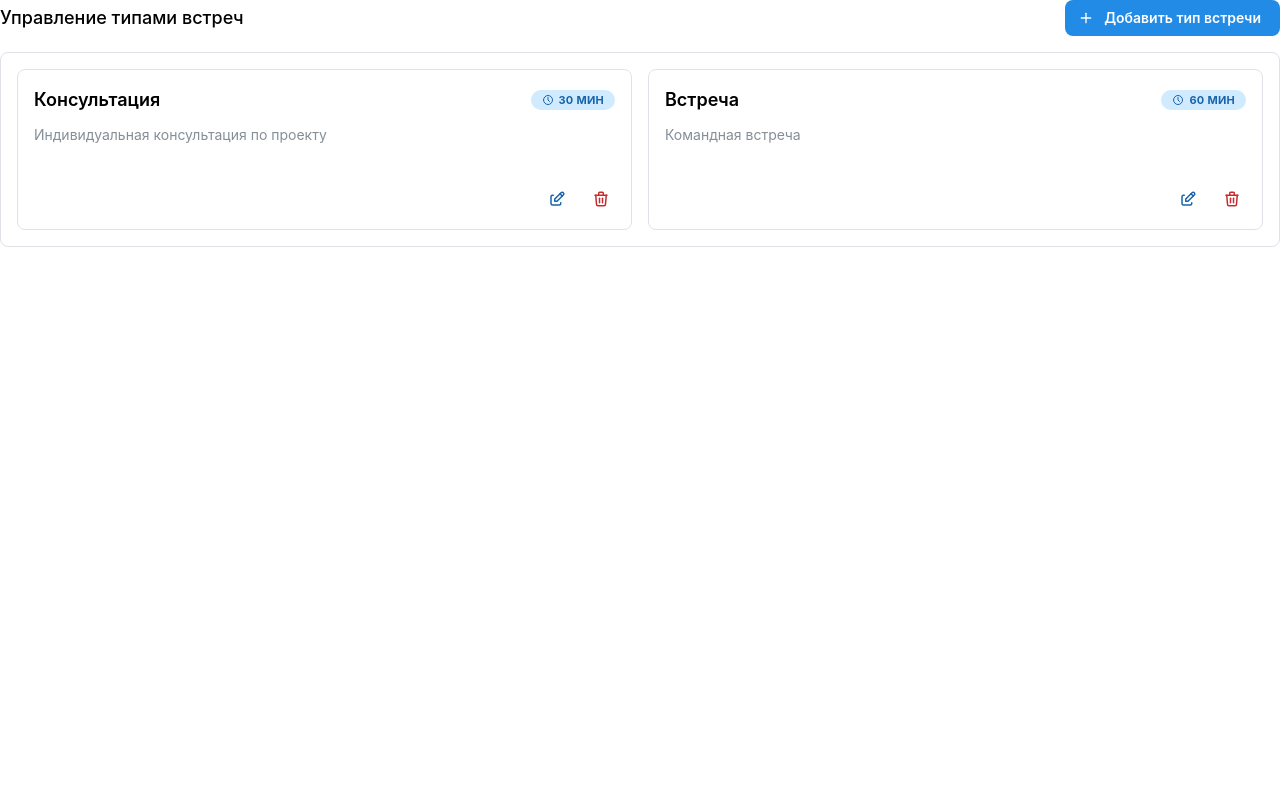
Test: EventTypeManagement › creates a new event type successfully
This screenshot has width=1280, height=800.
Check: the text "Консультация" is shown, box [34,86,160,115]
Click the button "Добавить тип встречи" at (1173, 18), box [1065,0,1279,36]
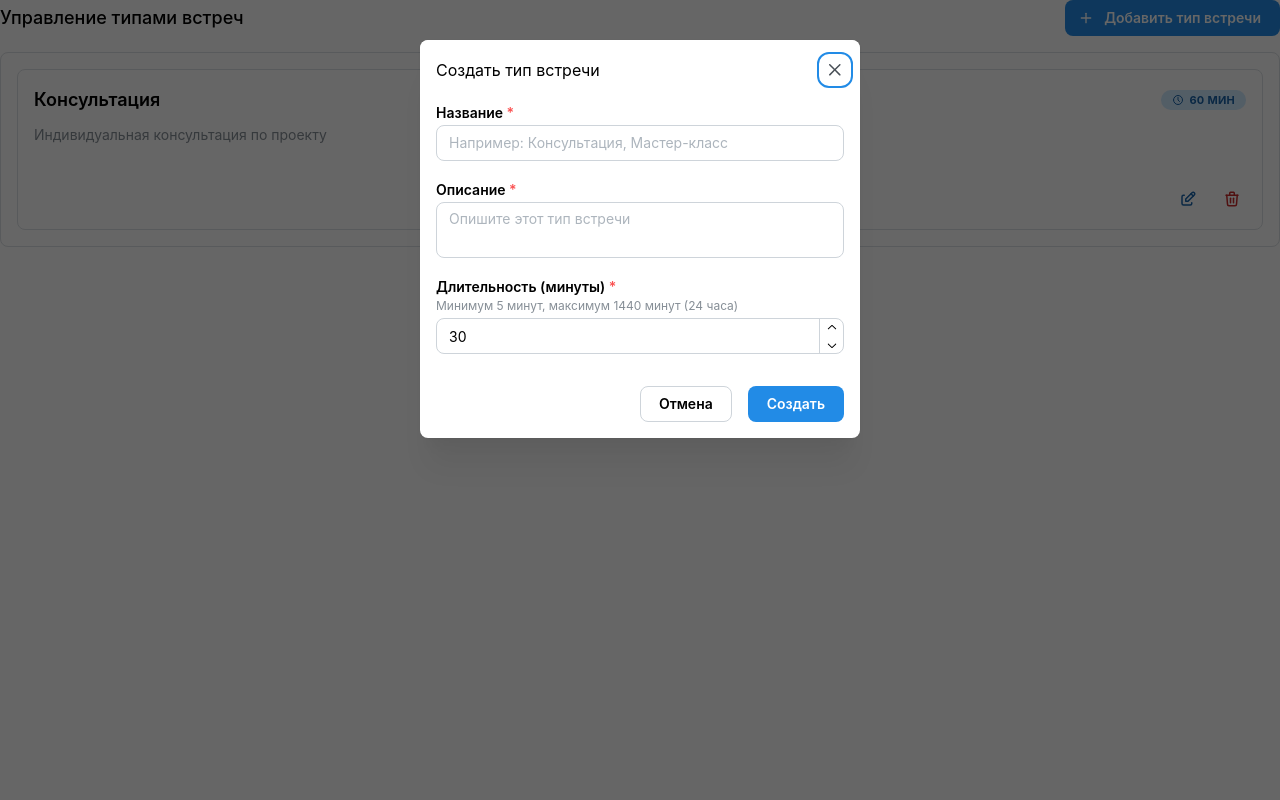
Type "Стратегическая сессия" into the field labelled "Название *" at (640, 143), box [436,125,844,161]
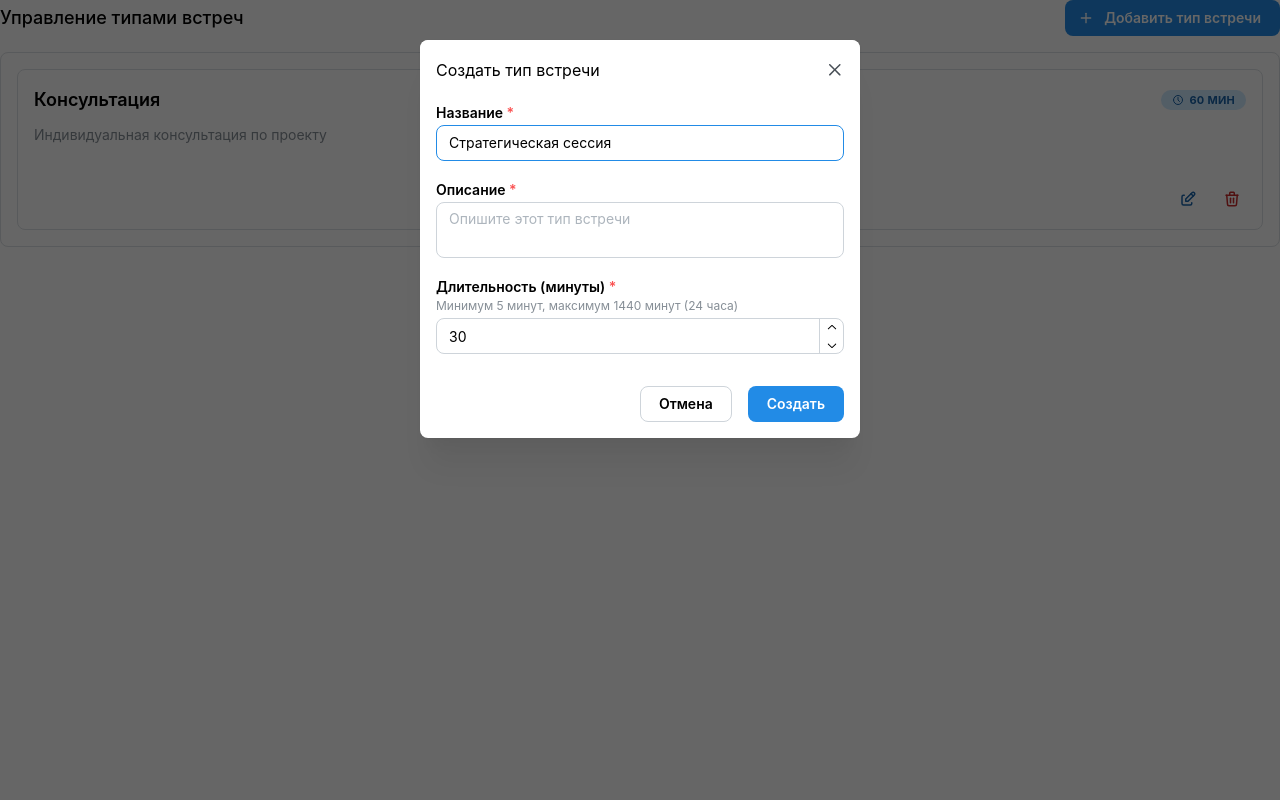
Type "Разбор целей и следующих шагов" into the text box labelled "Описание *" at (640, 230), box [436,202,844,258]
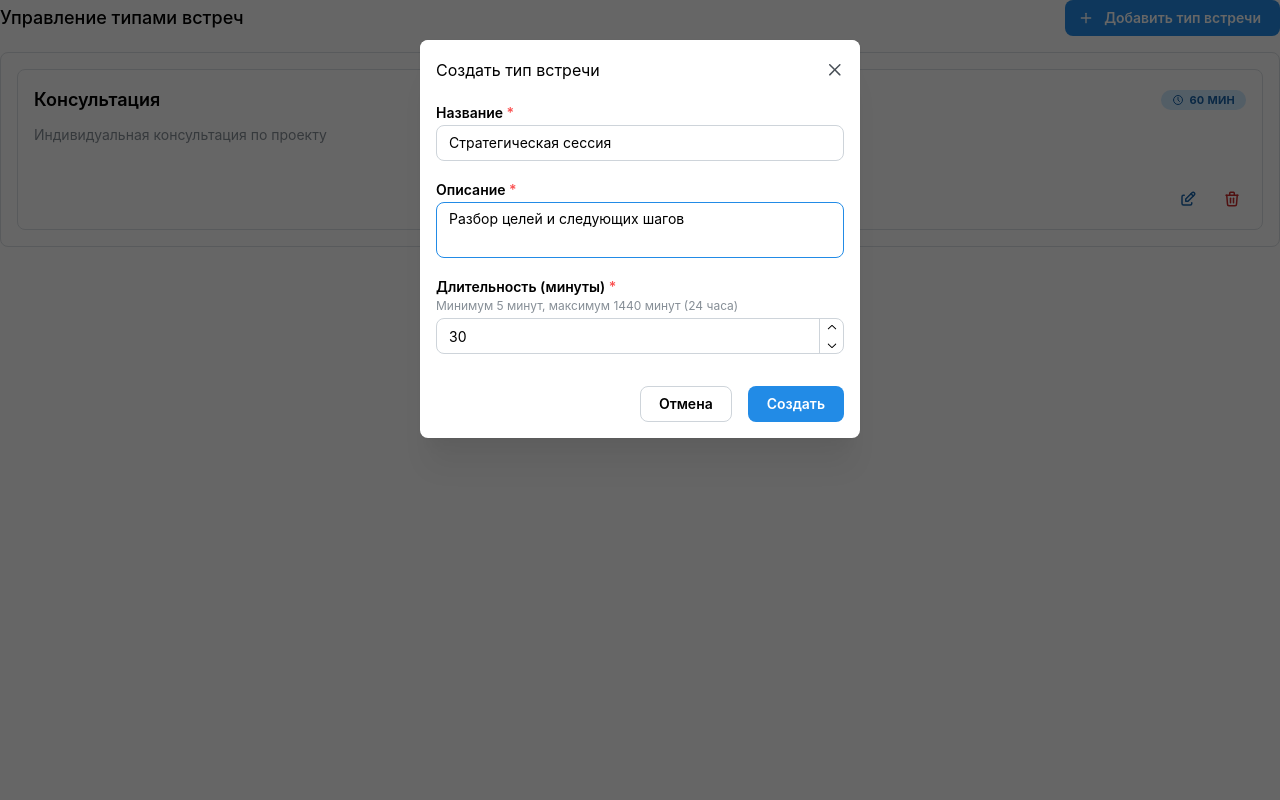
Replace the text in the field labelled "Длительность (минуты) *" with "45" at (640, 336), box [436,318,844,354]
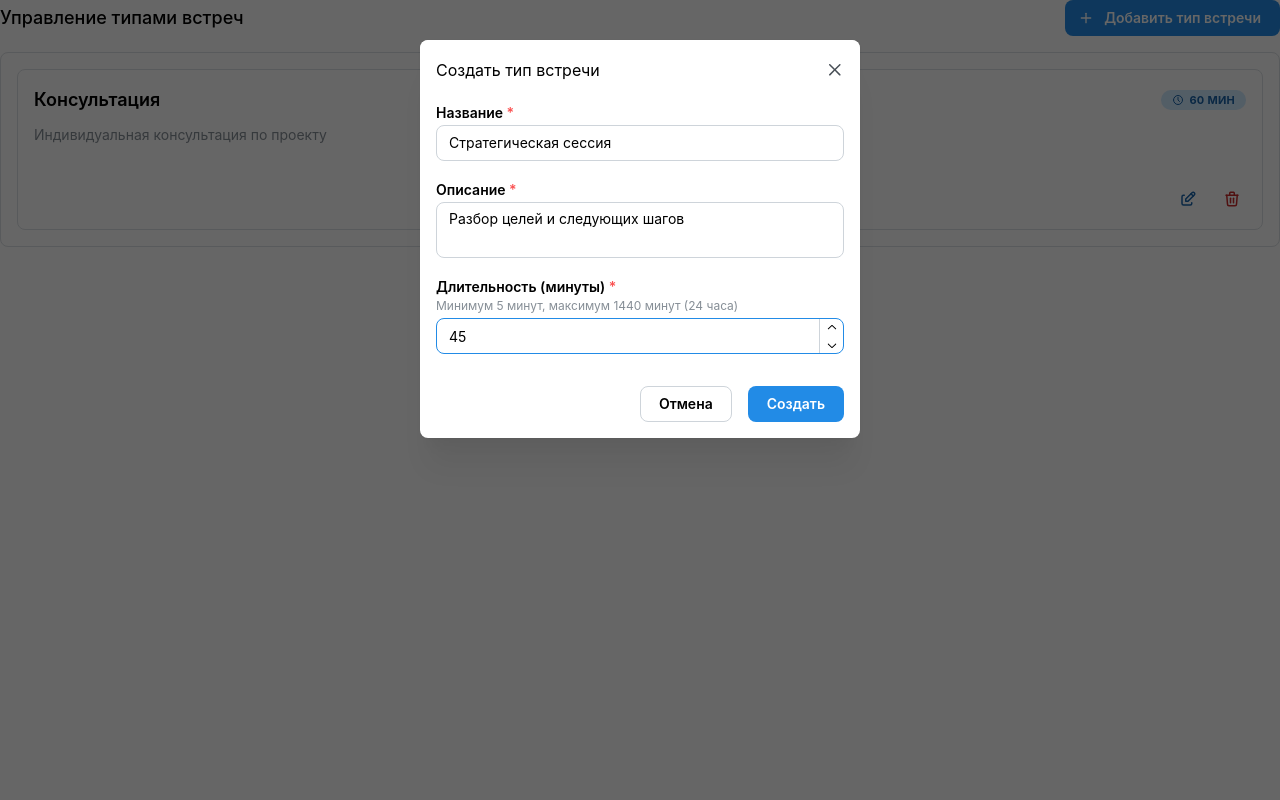
Click the button "Создать" at (796, 404), box [748,386,844,422]
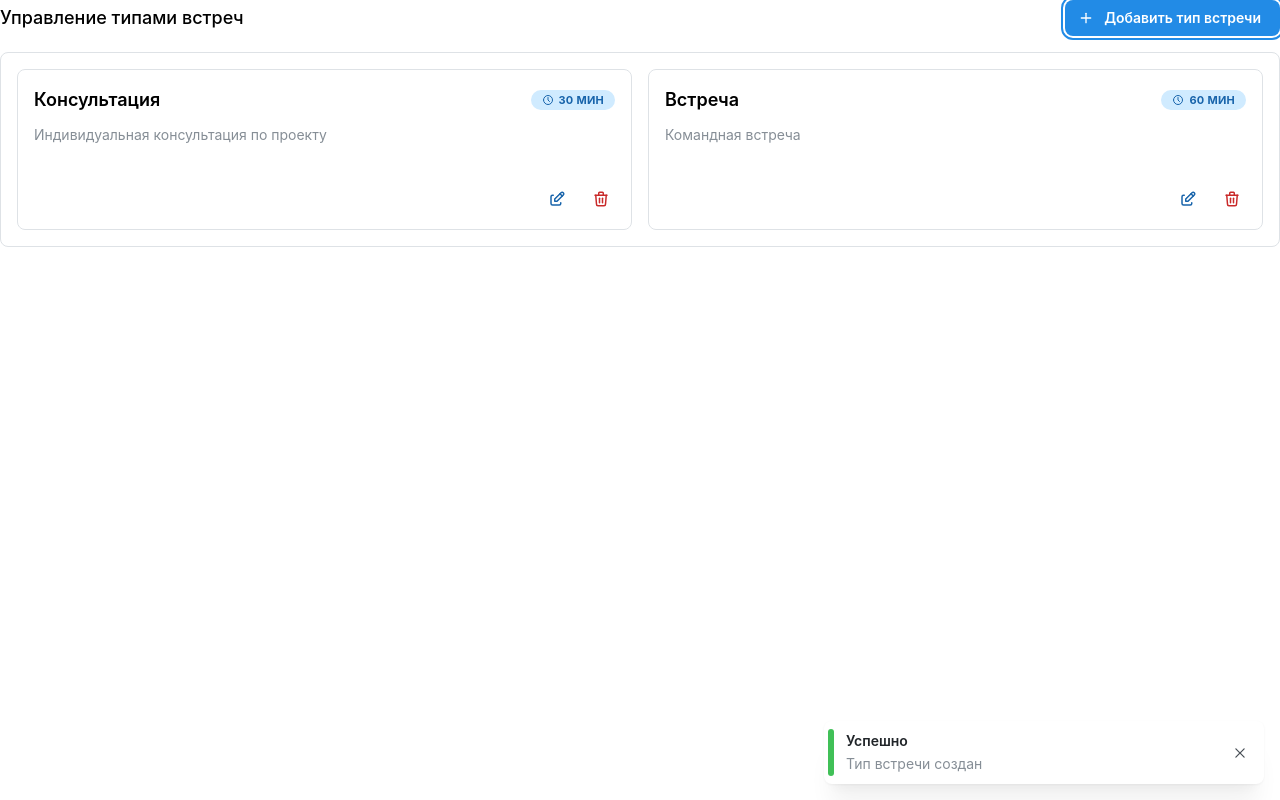
Check: the text "Тип встречи создан" is shown, box [846,755,982,772]
